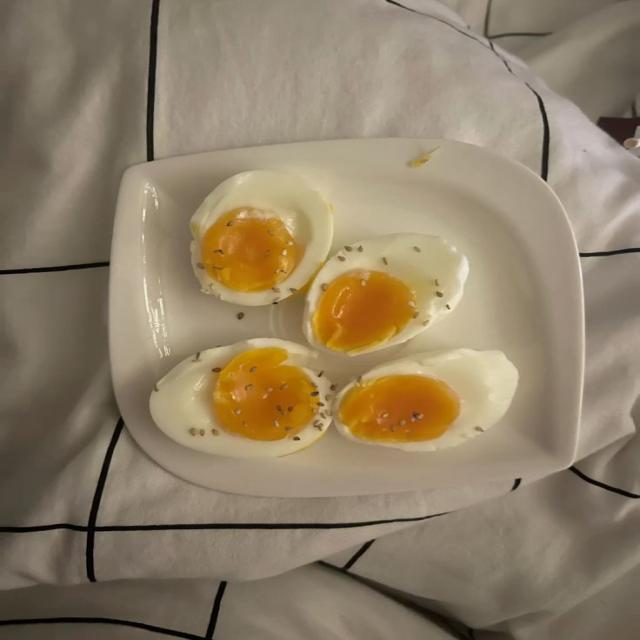eggs: (170, 177, 526, 476)
